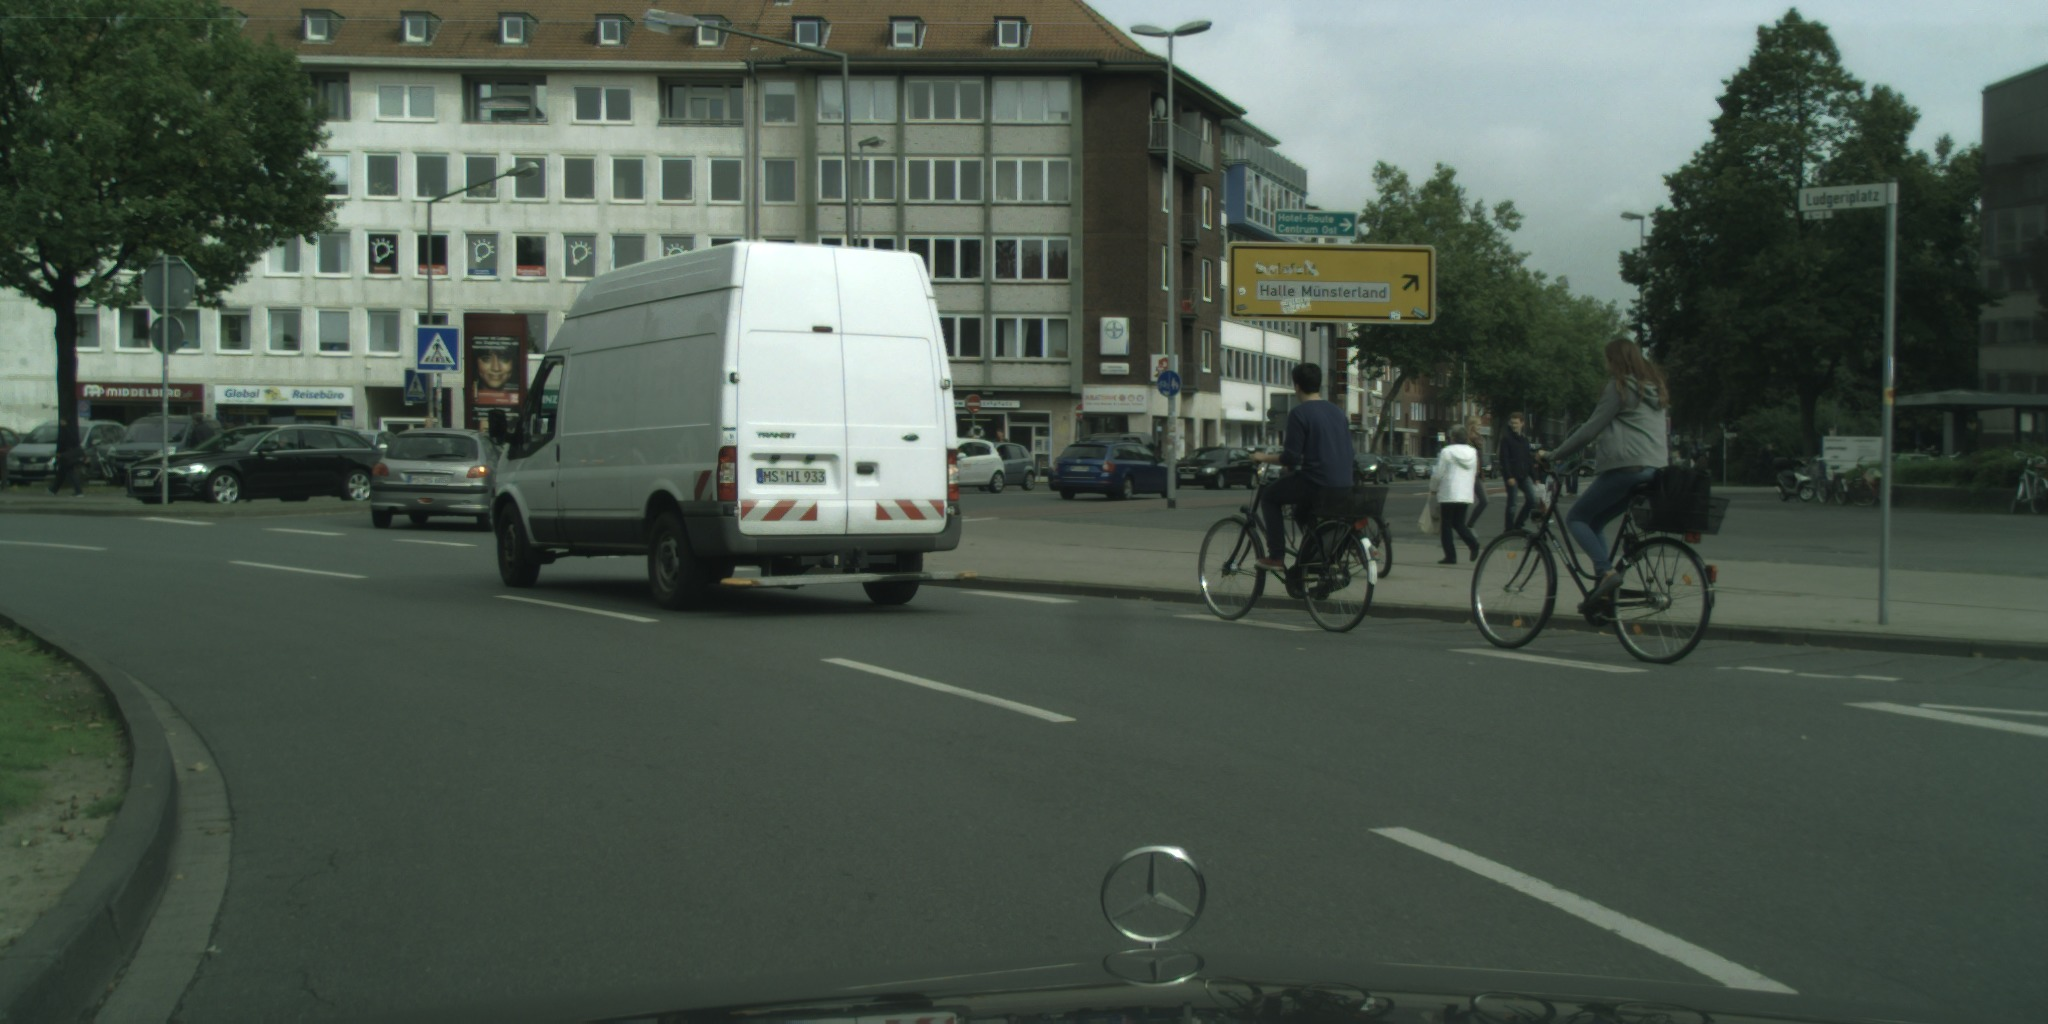bicycle: (1470, 443, 1731, 664), (1197, 453, 1379, 633), (1273, 485, 1393, 580), (2009, 451, 2048, 518), (1844, 457, 1887, 507), (1813, 458, 1850, 505)
car: (487, 242, 977, 612), (126, 424, 386, 504), (370, 427, 501, 532), (103, 413, 223, 487), (8, 421, 132, 487), (1049, 441, 1178, 500), (1173, 446, 1260, 489), (1077, 433, 1158, 473), (951, 438, 1005, 494), (976, 442, 1035, 491), (342, 430, 402, 467), (1258, 448, 1307, 491), (0, 427, 23, 489), (1238, 445, 1287, 474), (1348, 454, 1390, 485), (1478, 453, 1505, 479), (1389, 457, 1416, 480), (1407, 457, 1432, 479), (1379, 457, 1397, 482), (1576, 459, 1601, 476), (1424, 458, 1442, 475)
motorcycle: (1772, 457, 1818, 503)
person: (1416, 423, 1480, 565), (1499, 412, 1540, 541), (1460, 415, 1489, 540), (47, 415, 85, 498), (1554, 440, 1586, 499), (187, 412, 219, 464), (997, 428, 1012, 448), (423, 418, 434, 436)
rider: (1536, 336, 1673, 602), (1247, 363, 1354, 571)
